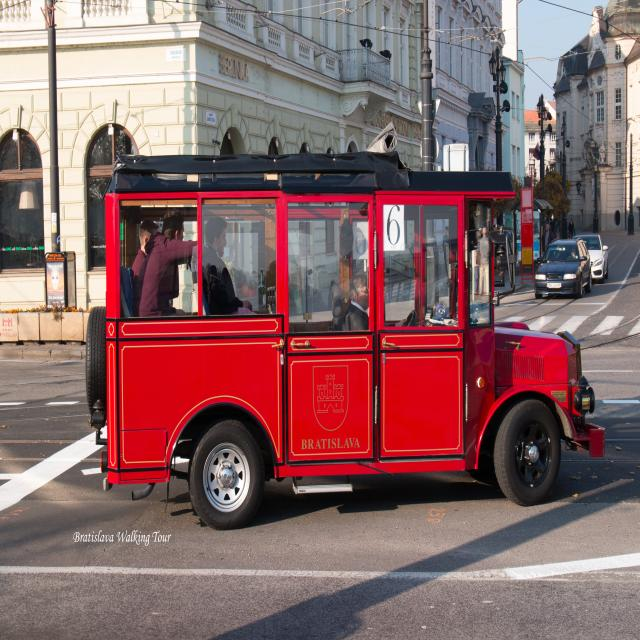body: (138, 207, 198, 318), (202, 215, 254, 315), (344, 270, 408, 330), (131, 219, 160, 318), (476, 227, 489, 297), (541, 221, 555, 253), (442, 225, 449, 285), (552, 246, 578, 262), (517, 213, 530, 242), (409, 239, 415, 285), (567, 219, 574, 239), (586, 240, 596, 250)
